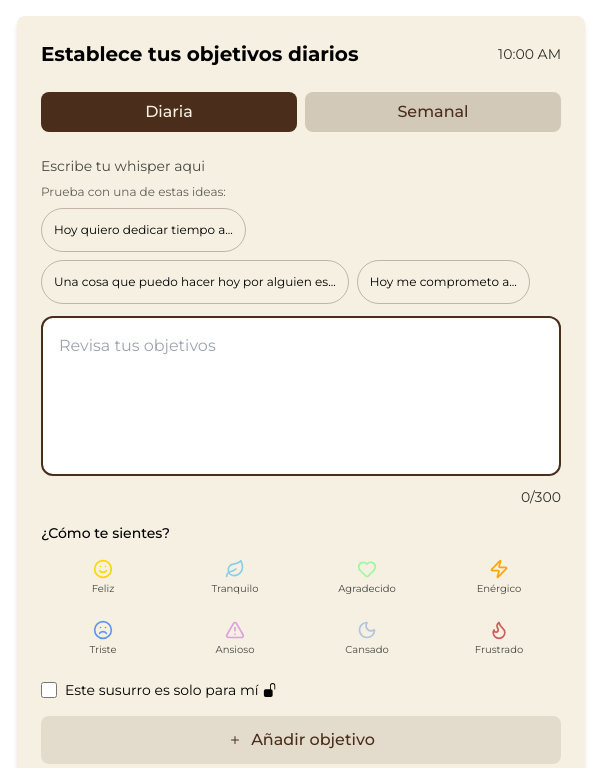
Scenario: WhisperForm › textarea interaction › updates character counter when typing
Type "Hello" into the text box. click: (301, 396)
box: x1=41 y1=316 x2=561 y2=476
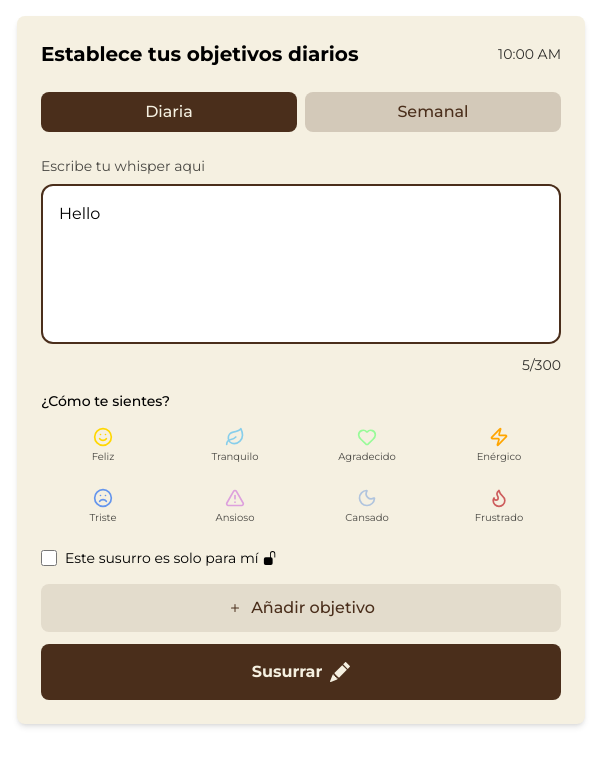
Check: the text "5/300" is shown, box x1=522 y1=356 x2=561 y2=374
